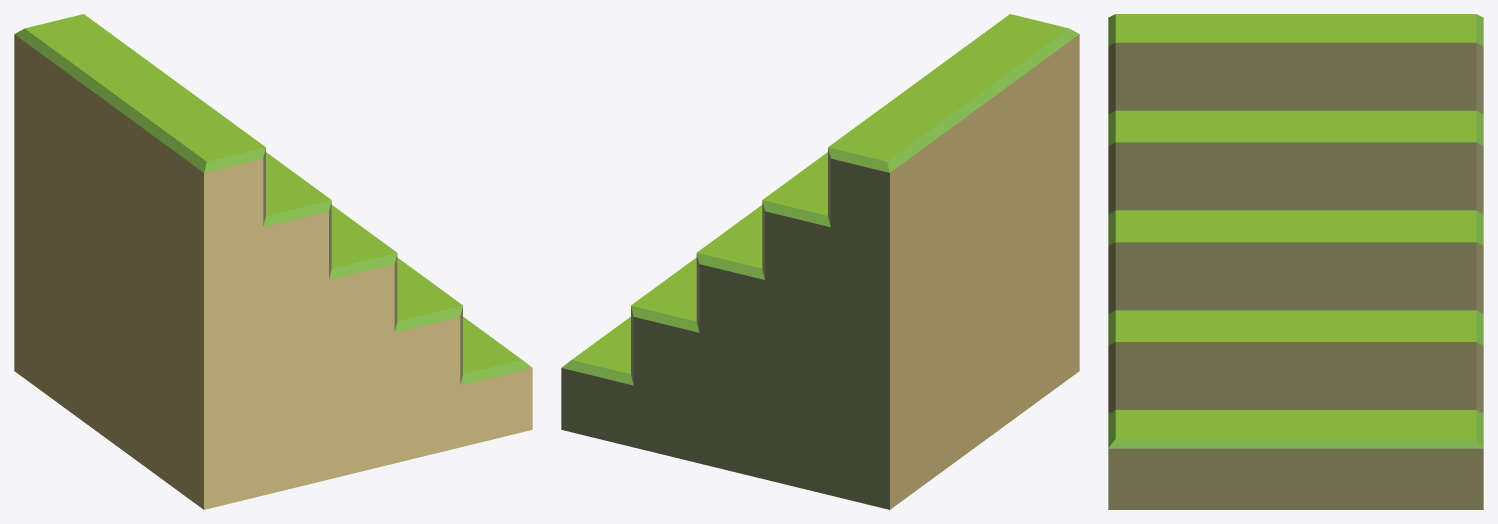
The model's file is grass steps_W.FBX.
3 renders of one model, left to right at view 1: azimuth 30°, elevation 25°; view 2: azimuth 150°, elevation 25°; view 3: azimuth 270°, elevation 25°, orthographic.
Visible parts, largest first — view 1: grass steps_W; view 2: grass steps_W; view 3: grass steps_W.
Part boxes in pixels (x1,y1,x2,y2): grass steps_W: (14, 14, 532, 509); grass steps_W: (561, 14, 1079, 509); grass steps_W: (1108, 14, 1483, 509).
Size of the model in its own units: 100 by 100 by 100.
